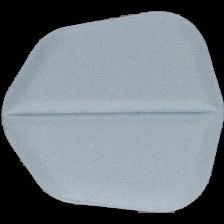0173-0644: (0, 0, 224, 224)
